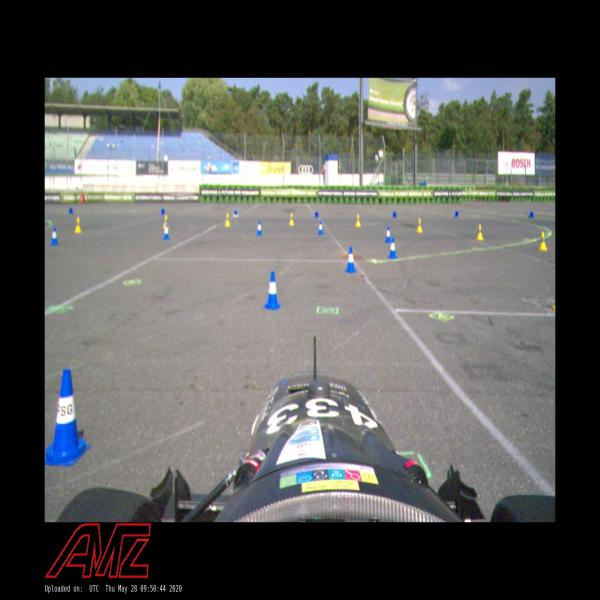blue_cone: (45, 367, 92, 467), (262, 271, 282, 311), (344, 246, 357, 273), (388, 237, 398, 259), (50, 226, 59, 246), (163, 222, 170, 240), (256, 220, 263, 236), (385, 226, 392, 242), (317, 220, 324, 235), (233, 209, 239, 218), (314, 211, 320, 219), (454, 209, 459, 218), (68, 207, 73, 215), (392, 211, 397, 219), (528, 212, 534, 218), (160, 208, 164, 215)
yellow_cone: (538, 231, 548, 251), (73, 216, 82, 234), (476, 224, 484, 240), (162, 214, 170, 229), (224, 212, 231, 226), (417, 218, 423, 233), (288, 212, 294, 226), (355, 213, 361, 227)
